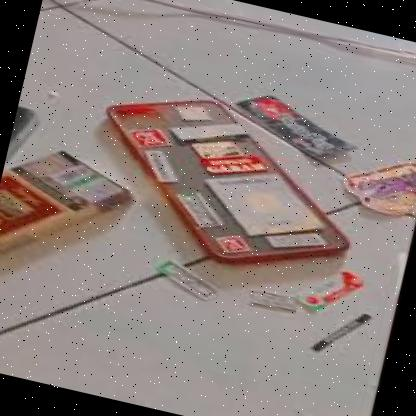bungkus rokok: (0, 134, 156, 301)
